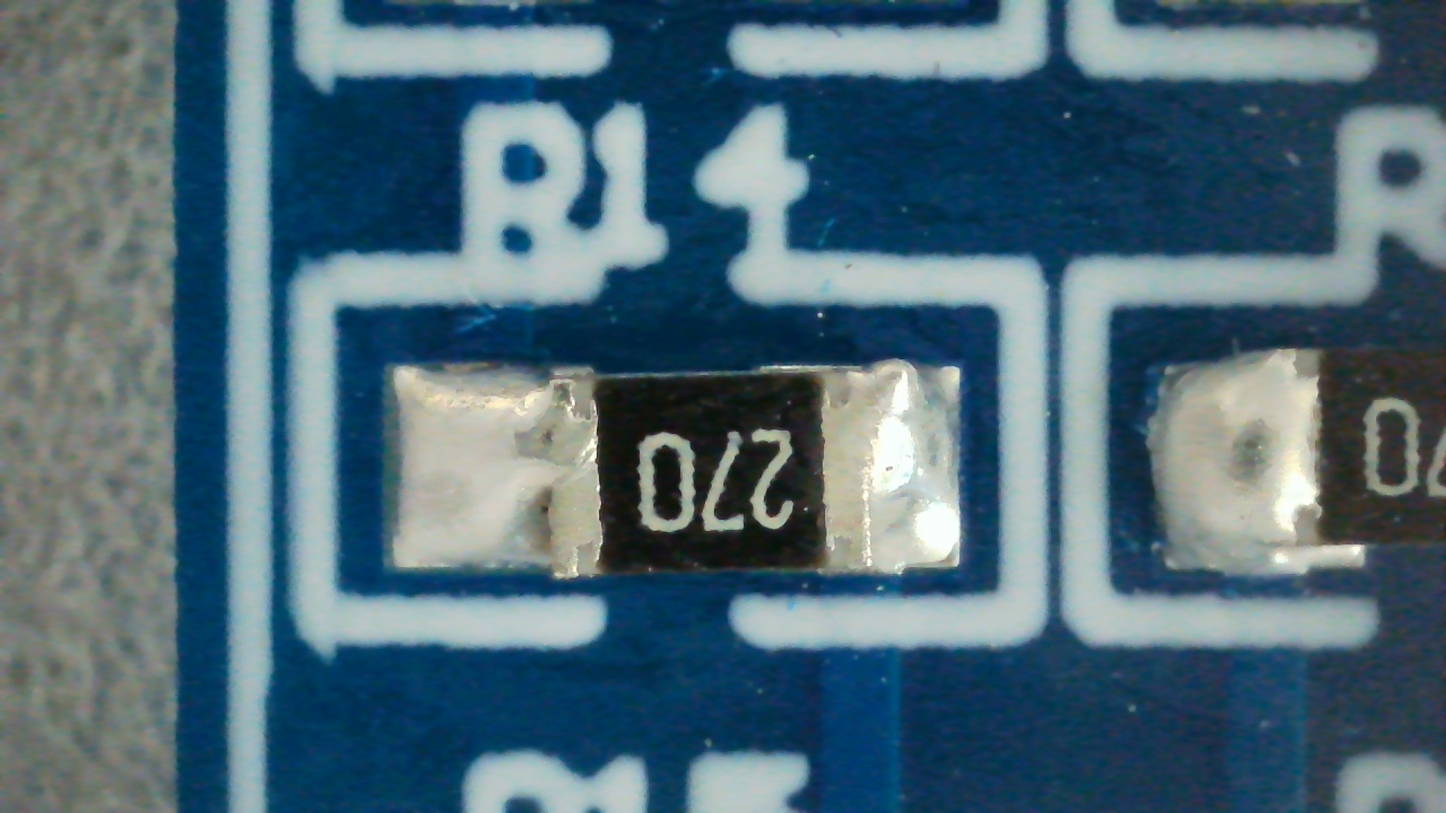OK: (393, 365, 961, 573)
